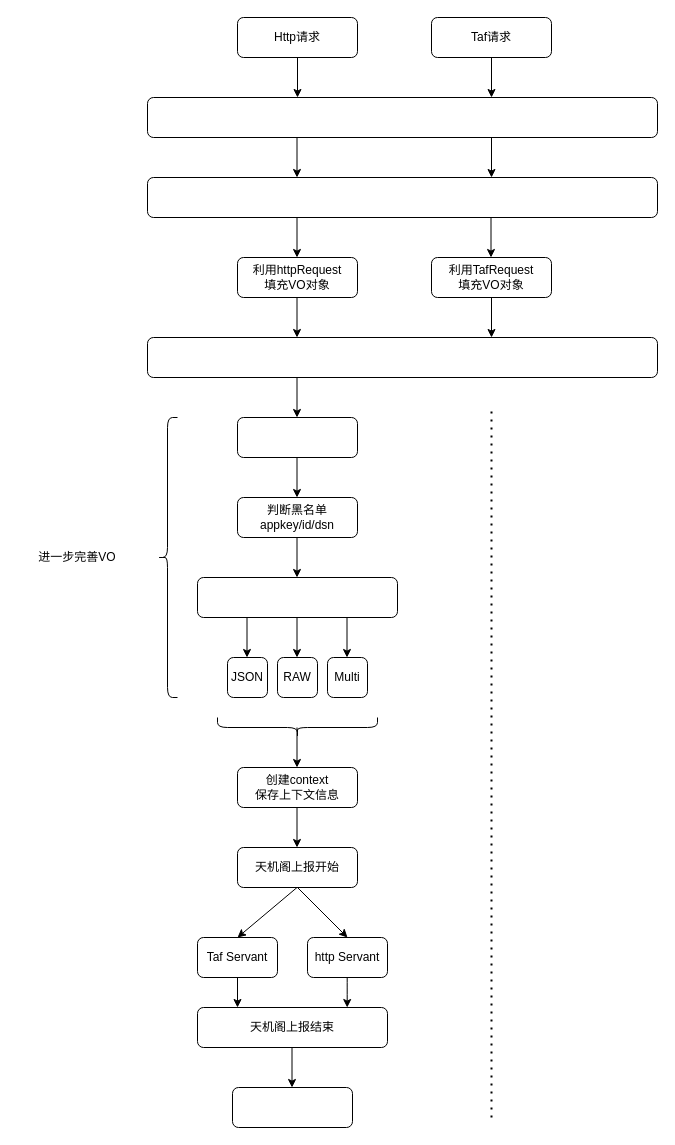
The diagram is 675 pixels wide and 1145 high, and some of its shapes have lost their labels. Each missing label, with the centre of its shape:
"TVSGatewayServer入口" goes at (x=402, y=117).
"健康度上报" goes at (x=402, y=357).
"请求体读取" goes at (x=297, y=597).
"读取校验 URL和Header参数" goes at (x=297, y=437).
"返回" goes at (x=292, y=1107).
"限流校验" goes at (x=402, y=197).
